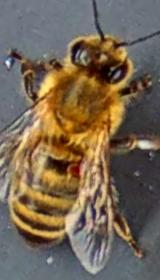varroa_mite: (56, 148, 100, 190)
